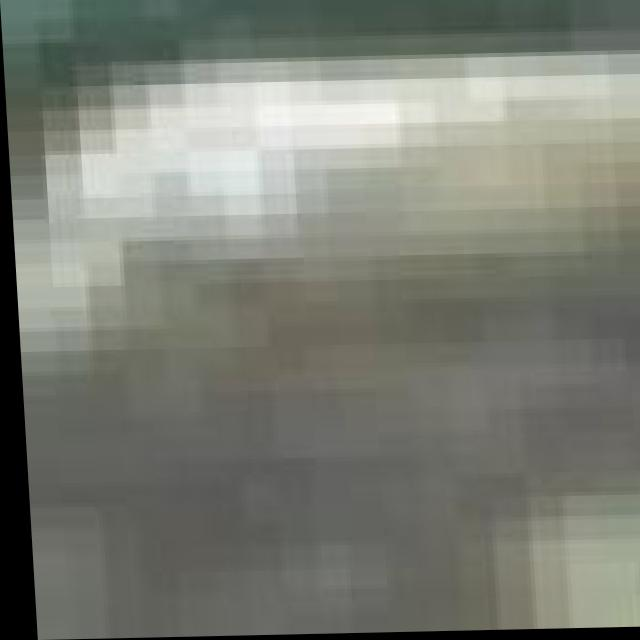inductor: (1, 9, 640, 640)
